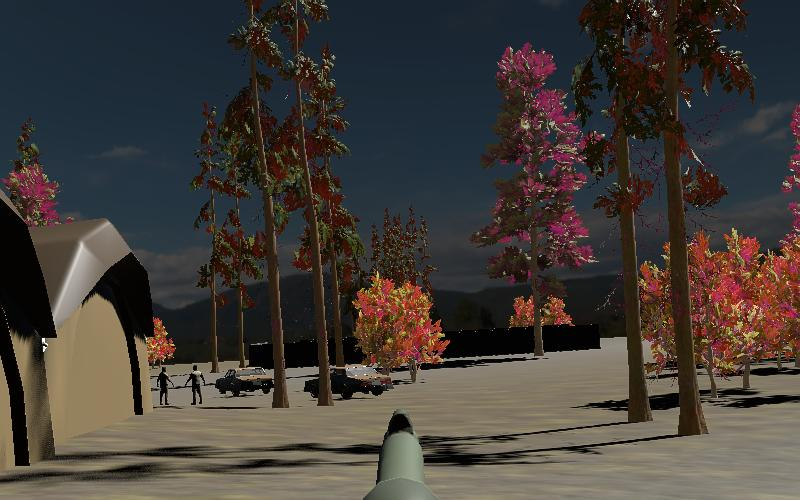Human: (184, 362, 207, 407), (155, 365, 174, 407)
car: (302, 361, 394, 401), (213, 364, 276, 398)
